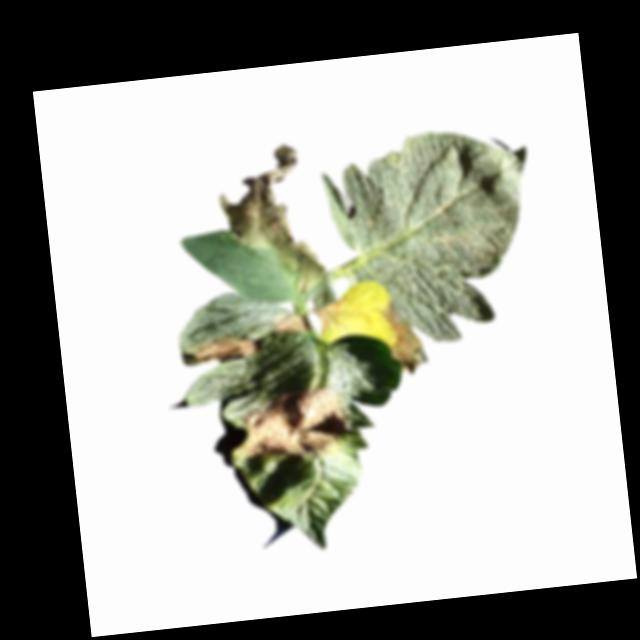Late_blight: (216, 141, 328, 300), (230, 380, 358, 468), (379, 296, 427, 375), (192, 332, 261, 368), (313, 297, 348, 333), (269, 312, 311, 337)
healthy: (316, 121, 545, 354)
